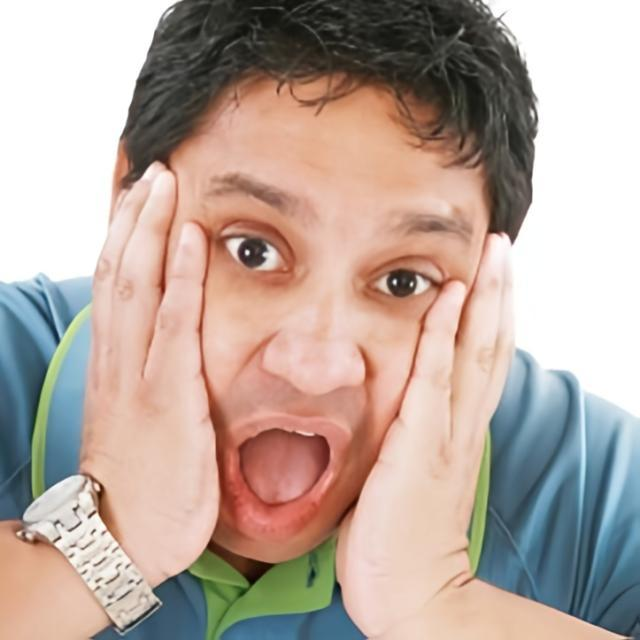surprise: (165, 63, 493, 568)
